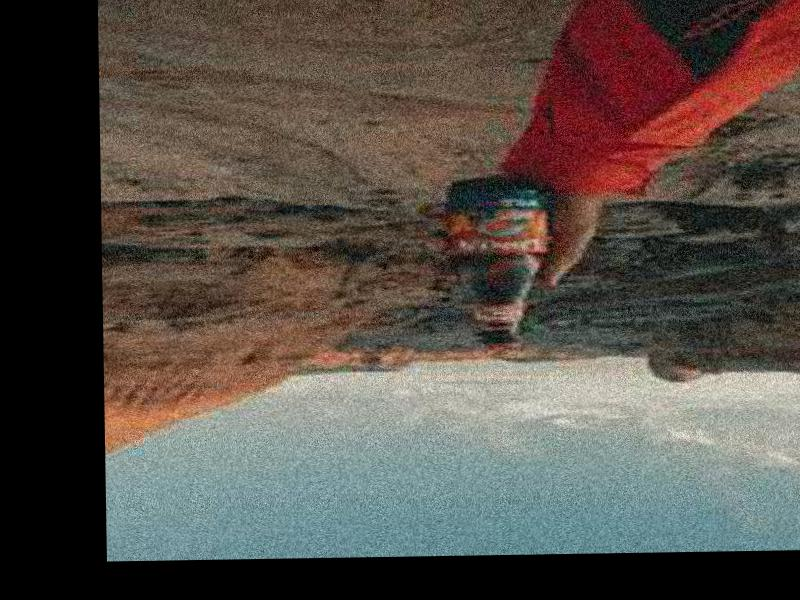Beer: (441, 178, 561, 345)
